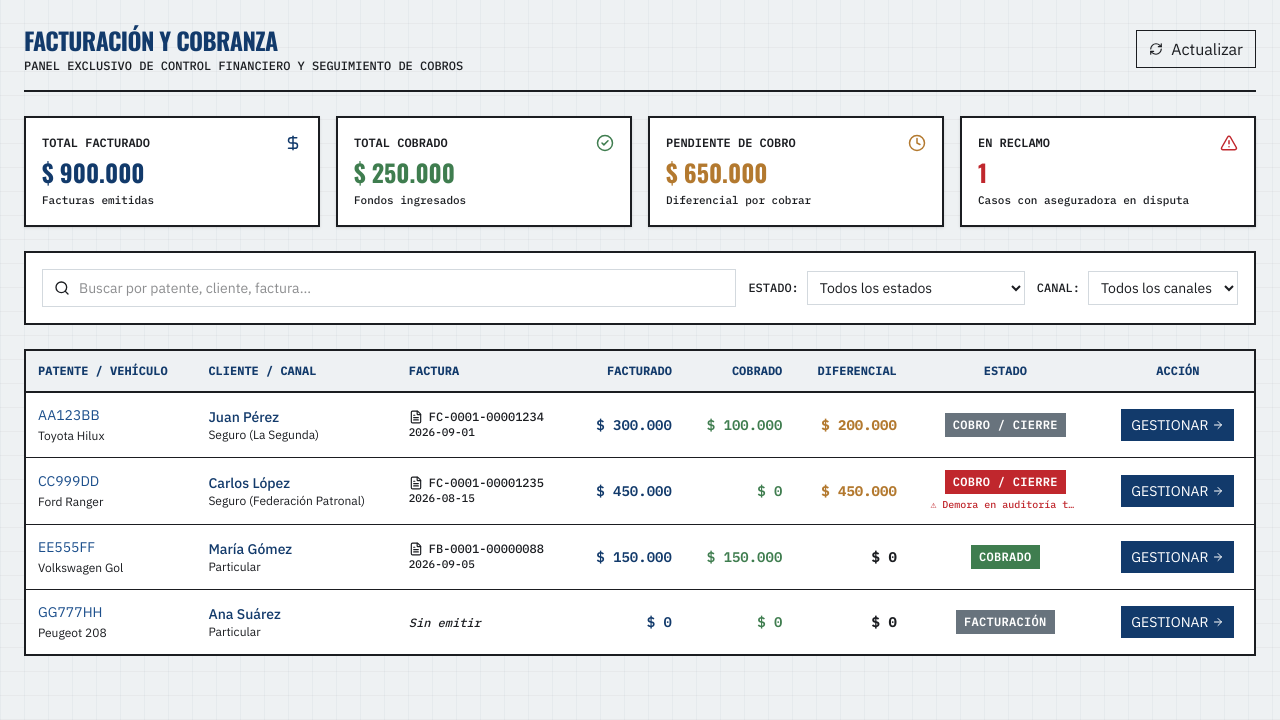
Scenario: FacturacionPage › filtra por texto de patente o cliente
This screenshot has width=1280, height=720.
Expected: the link "AA123BB" is shown, left=38, top=406, right=100, bottom=424
Type "Toyota" into the field with placeholder "Buscar por patente, cliente, factura...".
click(389, 288); type("Toyota")  # box left=42, top=268, right=736, bottom=306
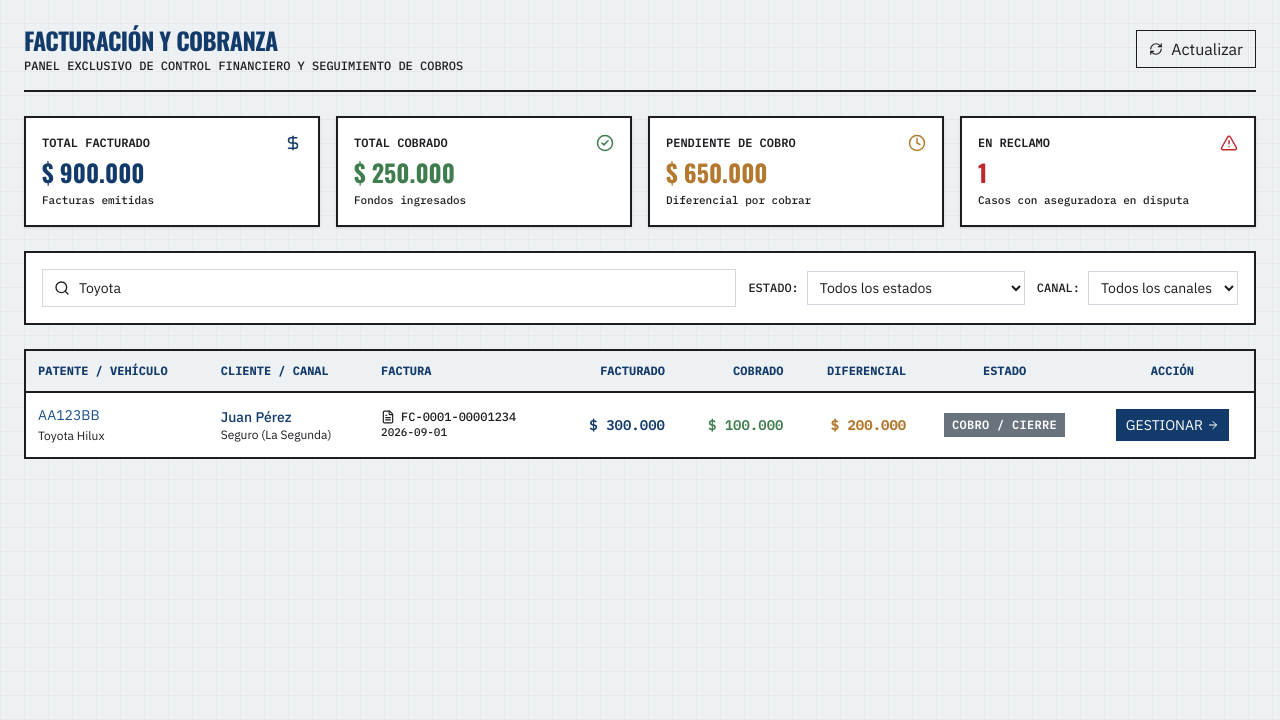
Expected: the link "AA123BB" is shown, left=38, top=406, right=100, bottom=424
Expected: the link "CC999DD" is gone
Expected: the link "EE555FF" is gone
